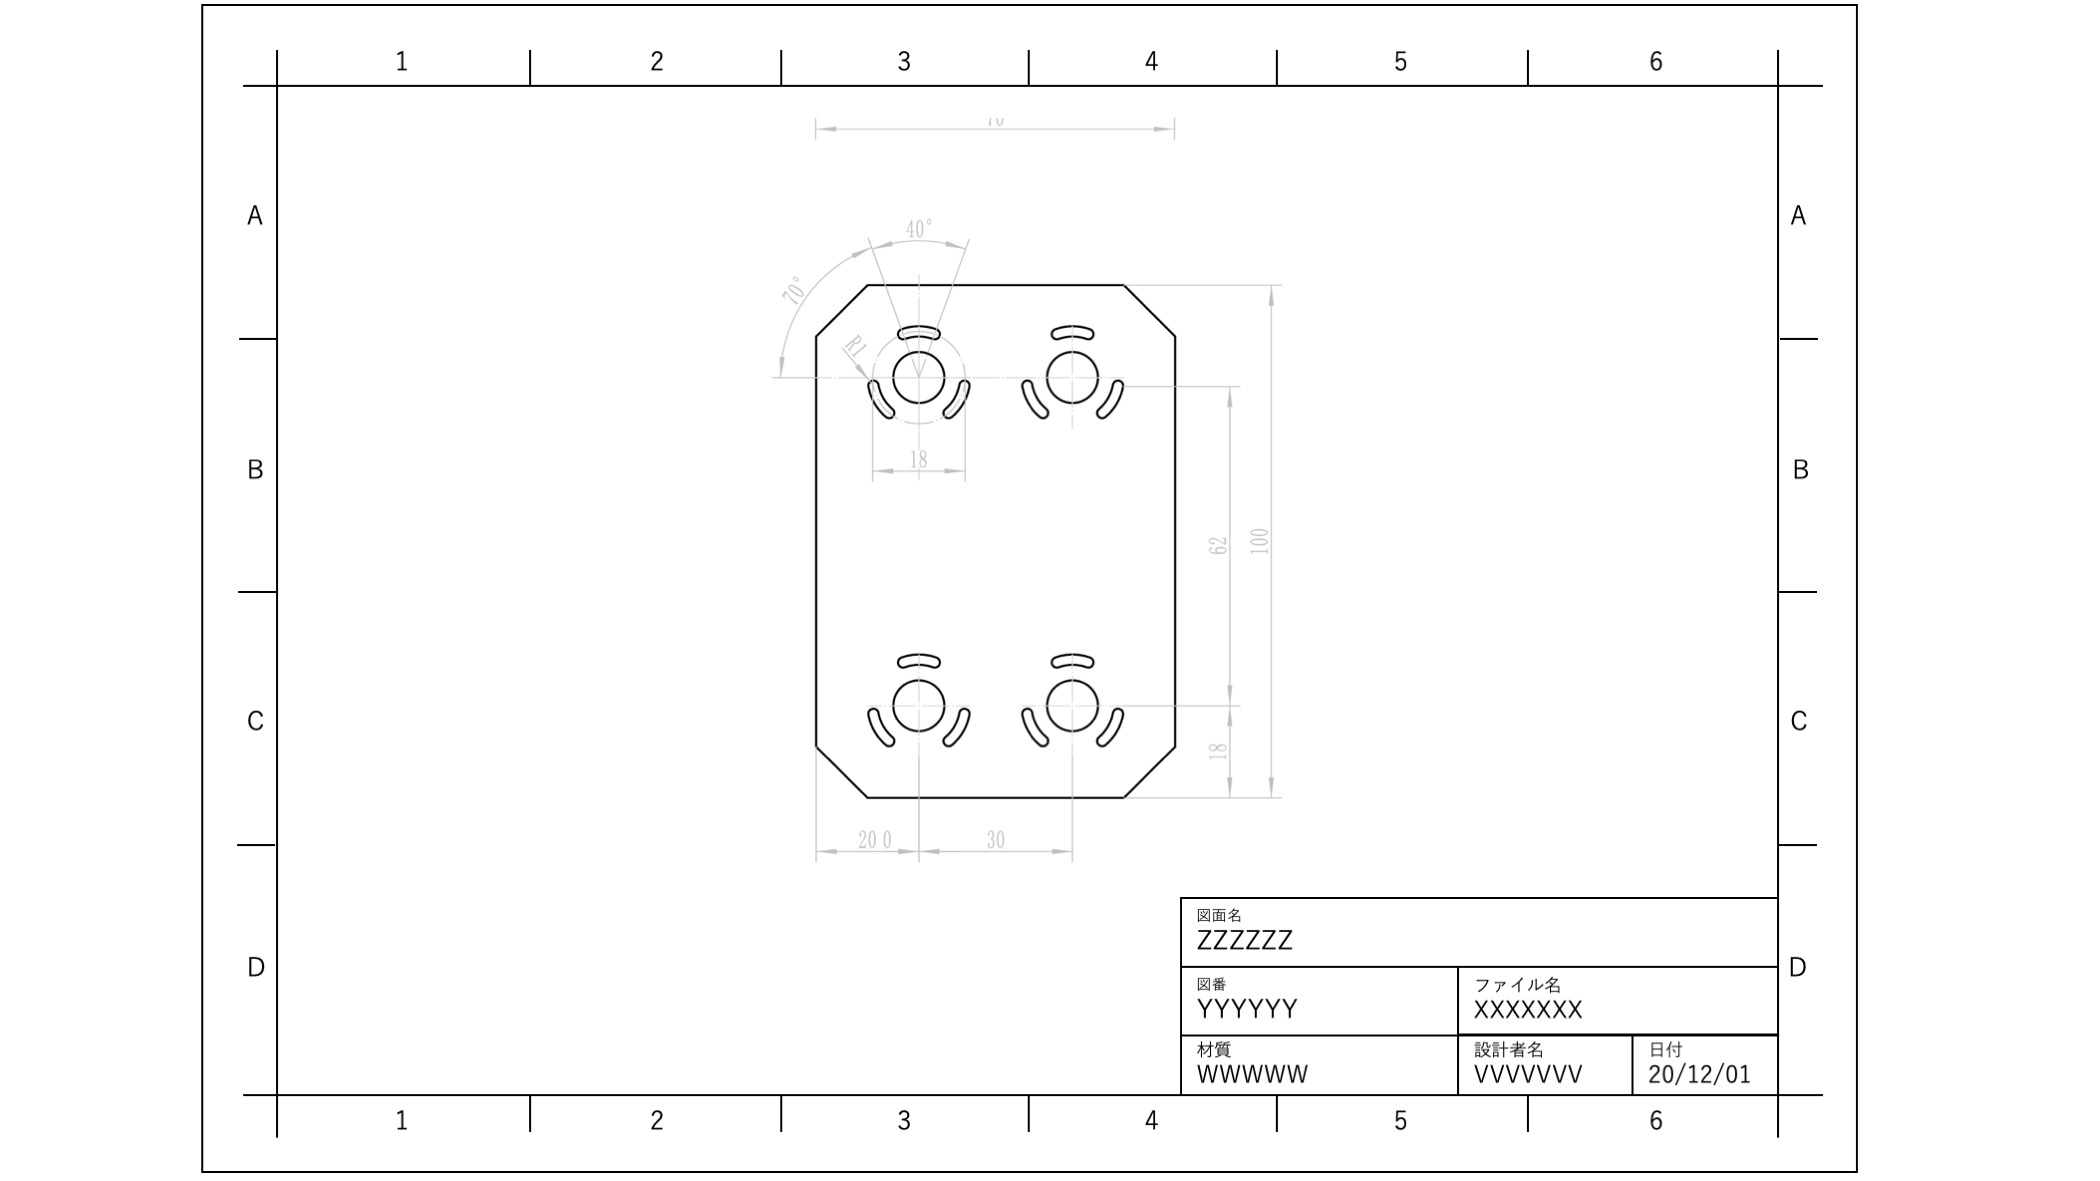circle: (884, 345, 950, 404), (1038, 678, 1108, 734), (888, 676, 949, 735), (1041, 349, 1102, 407)
round_rectangle: (884, 642, 948, 678), (1012, 704, 1059, 751), (858, 704, 899, 757), (1012, 372, 1051, 425), (860, 369, 896, 425), (936, 701, 974, 751), (1092, 699, 1129, 750), (1043, 646, 1108, 673), (1046, 317, 1105, 345), (890, 311, 945, 337), (1096, 376, 1126, 423), (939, 371, 969, 415)
